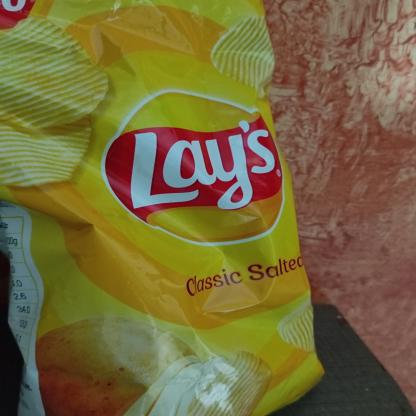classicsalted: (0, 0, 328, 415)
